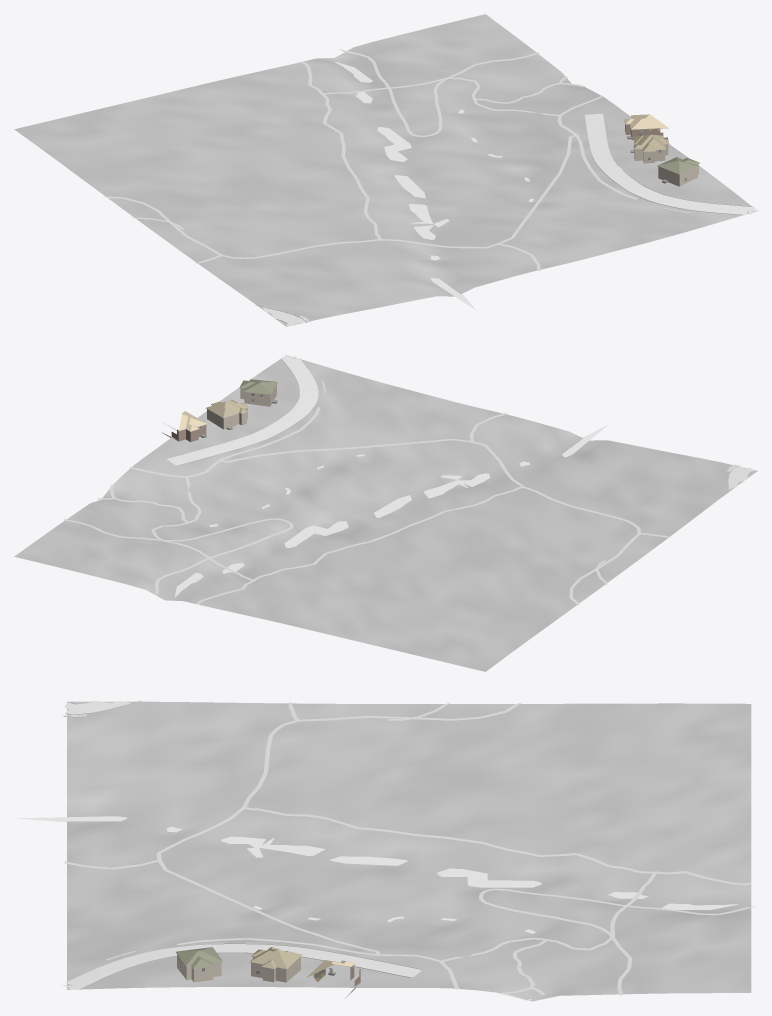
3 views of the same model, one above another, from view 1: azimuth 30°, elevation 25°; view 2: azimuth 150°, elevation 25°; view 3: azimuth 270°, elevation 25° (orthographic). The views are drawn at different scales.
Parts seen in each view (by area): view 1: ground, walk, concrete, water, roof, wall; view 2: ground, walk, concrete, water, roof, wall; view 3: ground, walk, water, concrete, roof, curb, wall, wall_stucco.
Boxes of the visible parts, x1,y1,x2,y2 form: ground: (14,14,757,326); walk: (103,49,690,322); concrete: (262,113,756,325); water: (334,61,533,310); roof: (624,114,699,174); wall: (625,124,668,163); ground: (14,355,757,671); walk: (63,380,736,605); concrete: (166,355,755,489); water: (102,424,608,601); roof: (178,379,277,431); wall: (162,408,247,442); ground: (67,701,751,1001); walk: (64,701,756,995); water: (16,816,738,1000); concrete: (61,701,421,989); roof: (176,947,357,977); curb: (63,700,422,989); wall: (251,957,360,998); wall_stucco: (177,954,221,982).
Bounding box in the file's own units: 261 × 16.52 × 272.
